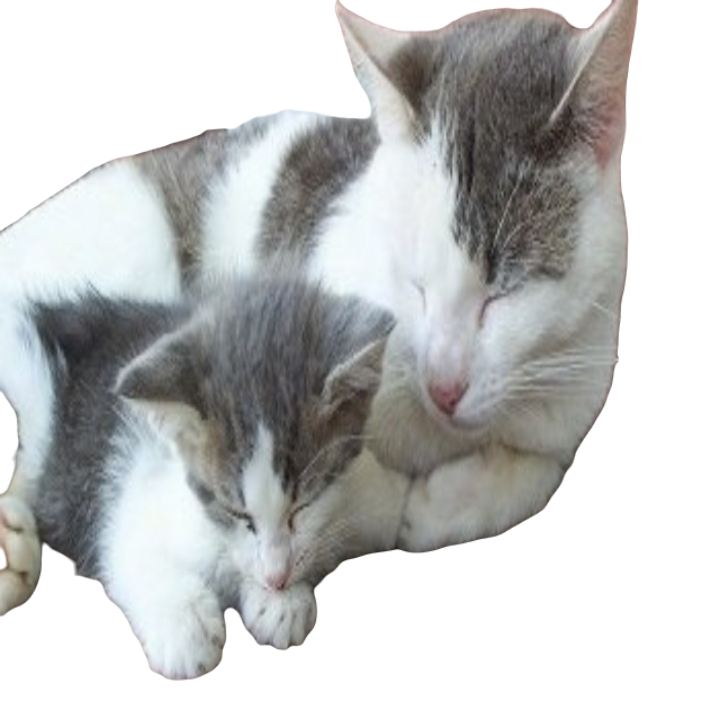Cat: (3, 0, 643, 679)
